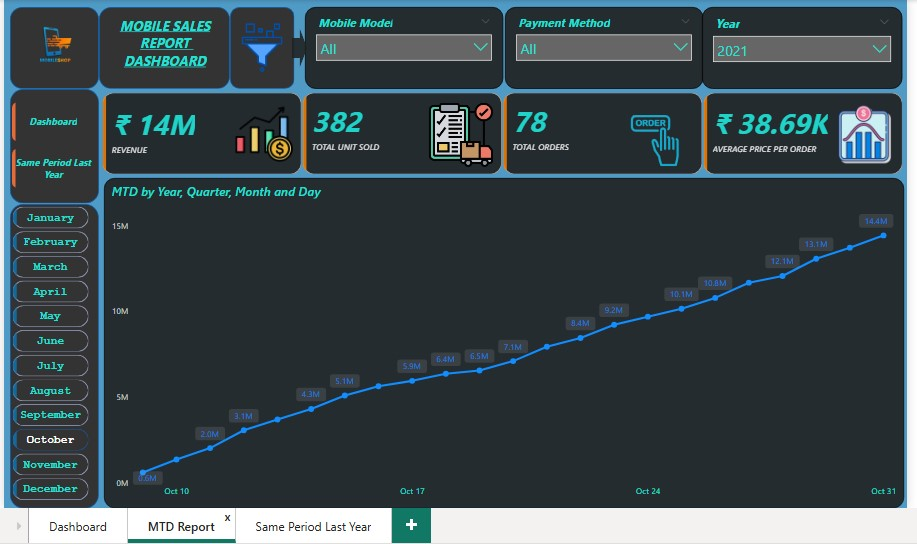

This screenshot's page, from the dashboard's own definition file:
{"tool":"powerbi","page":{"name":"MTD Report","canvas":[1280,720],"ordinal":1},"visuals":[{"type":"shape","box":[8.7,10.1,126.1,115.9],"z":0},{"type":"image","box":[8.7,0,187,126.1],"z":1000},{"type":"shape","box":[8.7,126.1,126.1,162.3],"z":2000},{"type":"cardVisual","fields":{"Data":["Measure.Sales_Amount","Measure.Total_Quantity","Measure.Transaction","Measure.Average_Price"]},"box":[134.8,126.1,1144.9,126.1],"z":3000},{"type":"slicer","fields":{"Values":["Mobile_sales_Report.Mobile Model"]},"box":[426.1,10.1,281.2,115.9],"z":4000},{"type":"slicer","fields":{"Values":["Mobile_sales_Report.Payment Method"]},"box":[710.1,10.1,281.2,115.9],"z":5000},{"type":"shape","box":[320.3,10.1,91.3,115.9],"z":6000},{"type":"slicer","fields":{"Values":["Custom_Calender.Date.Variation.Date Hierarchy.Year","Custom_Calender.Date.Variation.Date Hierarchy.Quarter","Custom_Calender.Date.Variation.Date Hierarchy.Month","Custom_Calender.Date.Variation.Date Hierarchy.Day"]},"box":[989.9,10.1,284.1,115.9],"z":7000},{"type":"shape","box":[408.7,39.1,21.7,56.5],"z":8000},{"type":"image","box":[313,27.5,105.8,81.2],"z":9000},{"type":"shape","box":[134.8,10.1,185.5,115.9],"z":10000},{"type":"textbox","box":[134.8,18.8,187,98.6],"z":11000},{"type":"lineChart","fields":{"Category":["Custom_Calender.Date.Variation.Date Hierarchy.Year","Custom_Calender.Date.Variation.Date Hierarchy.Quarter","Custom_Calender.Date.Variation.Date Hierarchy.Month","Custom_Calender.Date.Variation.Date Hierarchy.Day"],"Y":["Measure.MTD"]},"box":[141.7,252.3,1133.9,467.7],"z":12000},{"type":"advancedSlicerVisual","fields":{"Values":["Custom_Calender.Date.Variation.Date Hierarchy.Month"]},"box":[8.6,288.6,118.6,431.4],"z":13000},{"type":"shape","box":[8.6,288.6,125.7,431.4],"z":14000},{"type":"advancedSlicerVisual","fields":{"Values":["Custom_Calender.Date.Variation.Date Hierarchy.Month"]},"box":[7.2,288.1,118.8,431.9],"z":15000},{"type":"pageNavigator","box":[11.9,144.8,117.9,122.4],"z":16000}]}

Visuals, with their boxes on the page's 1280x720 design canvas (x1, y1, x2, y2). These are canvas units, not pixel positions in the 917x544 screenshot, which may show the page scaled, cropped or inside an application window:
shape: l=9, t=10, r=135, b=126
image: l=9, t=0, r=196, b=126
shape: l=9, t=126, r=135, b=288
cardVisual - Measure.Sales_Amount x Measure.Total_Quantity: l=135, t=126, r=1280, b=252
slicer - Mobile_sales_Report.Mobile Model: l=426, t=10, r=707, b=126
slicer - Mobile_sales_Report.Payment Method: l=710, t=10, r=991, b=126
shape: l=320, t=10, r=412, b=126
slicer - Custom_Calender.Date.Variation.Date Hierarchy.Year x Custom_Calender.Date.Variation.Date Hierarchy.Quarter: l=990, t=10, r=1274, b=126
shape: l=409, t=39, r=430, b=96
image: l=313, t=28, r=419, b=109
shape: l=135, t=10, r=320, b=126
textbox: l=135, t=19, r=322, b=117
lineChart - Custom_Calender.Date.Variation.Date Hierarchy.Year x Custom_Calender.Date.Variation.Date Hierarchy.Quarter: l=142, t=252, r=1276, b=720
advancedSlicerVisual - Custom_Calender.Date.Variation.Date Hierarchy.Month: l=9, t=289, r=127, b=720
shape: l=9, t=289, r=134, b=720
advancedSlicerVisual - Custom_Calender.Date.Variation.Date Hierarchy.Month: l=7, t=288, r=126, b=720
pageNavigator: l=12, t=145, r=130, b=267
